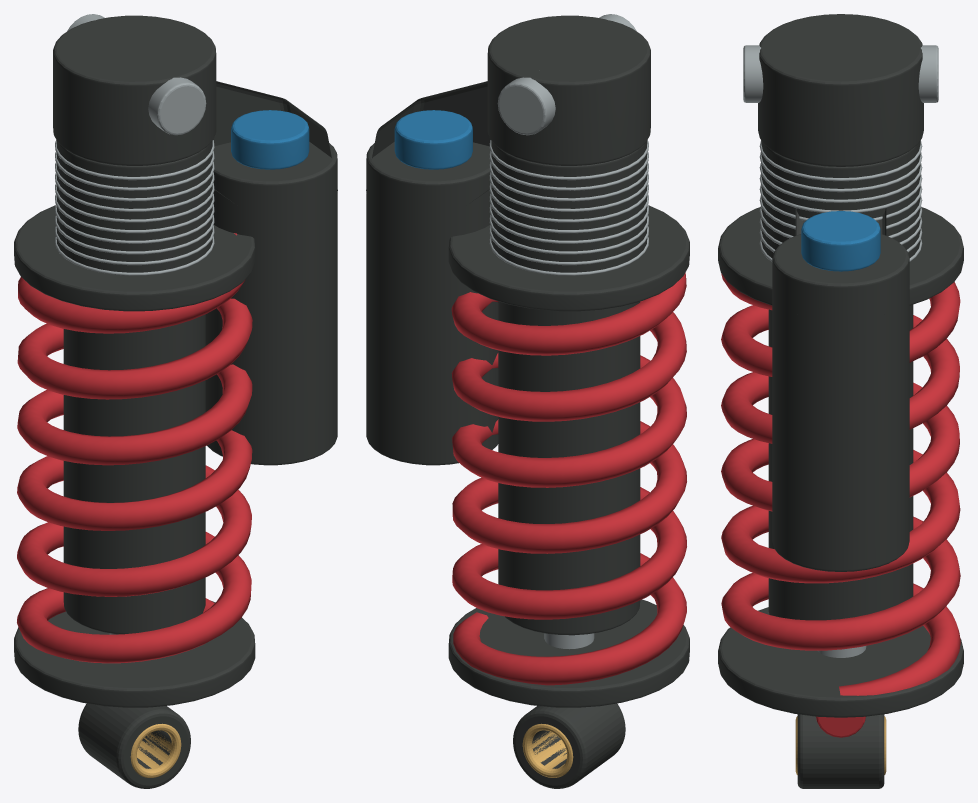
File: rockshox-vivid-coil-ultimate-d1--5602da97.glb
3 renders of one model, left to right at view 1: azimuth 30°, elevation 25°; view 2: azimuth 150°, elevation 25°; view 3: azimuth 270°, elevation 25°, orthographic.
Visible parts, largest first — view 1: rockshox-vivid-coil-ultimate-d1--5602da97__link, rockshox-vivid-coil-ultimate-d1--5602da97__rebound, rockshox-vivid-coil-ultimate-d1--5602da97__bolts, rockshox-vivid-coil-ultimate-d1--5602da97__adjuster, rockshox-vivid-coil-ultimate-d1--5602da97__stanchions; view 2: rockshox-vivid-coil-ultimate-d1--5602da97__link, rockshox-vivid-coil-ultimate-d1--5602da97__rebound, rockshox-vivid-coil-ultimate-d1--5602da97__bolts, rockshox-vivid-coil-ultimate-d1--5602da97__adjuster, rockshox-vivid-coil-ultimate-d1--5602da97__stanchions; view 3: rockshox-vivid-coil-ultimate-d1--5602da97__link, rockshox-vivid-coil-ultimate-d1--5602da97__rebound, rockshox-vivid-coil-ultimate-d1--5602da97__bolts, rockshox-vivid-coil-ultimate-d1--5602da97__adjuster.
Part boxes in pixels (<box>): rockshox-vivid-coil-ultimate-d1--5602da97__link: <box>14,15,337,788</box>; rockshox-vivid-coil-ultimate-d1--5602da97__rebound: <box>17,233,252,663</box>; rockshox-vivid-coil-ultimate-d1--5602da97__bolts: <box>55,14,214,634</box>; rockshox-vivid-coil-ultimate-d1--5602da97__adjuster: <box>231,110,309,169</box>; rockshox-vivid-coil-ultimate-d1--5602da97__stanchions: <box>130,723,181,777</box>; rockshox-vivid-coil-ultimate-d1--5602da97__link: <box>366,15,689,788</box>; rockshox-vivid-coil-ultimate-d1--5602da97__rebound: <box>451,272,686,685</box>; rockshox-vivid-coil-ultimate-d1--5602da97__bolts: <box>489,14,648,649</box>; rockshox-vivid-coil-ultimate-d1--5602da97__adjuster: <box>394,110,472,169</box>; rockshox-vivid-coil-ultimate-d1--5602da97__stanchions: <box>522,723,573,777</box>; rockshox-vivid-coil-ultimate-d1--5602da97__link: <box>718,14,963,788</box>; rockshox-vivid-coil-ultimate-d1--5602da97__rebound: <box>721,273,960,737</box>; rockshox-vivid-coil-ultimate-d1--5602da97__bolts: <box>743,45,938,657</box>; rockshox-vivid-coil-ultimate-d1--5602da97__adjuster: <box>801,211,880,271</box>.
Bounding box in the file's own units: 0.097 × 0.225 × 0.068.
